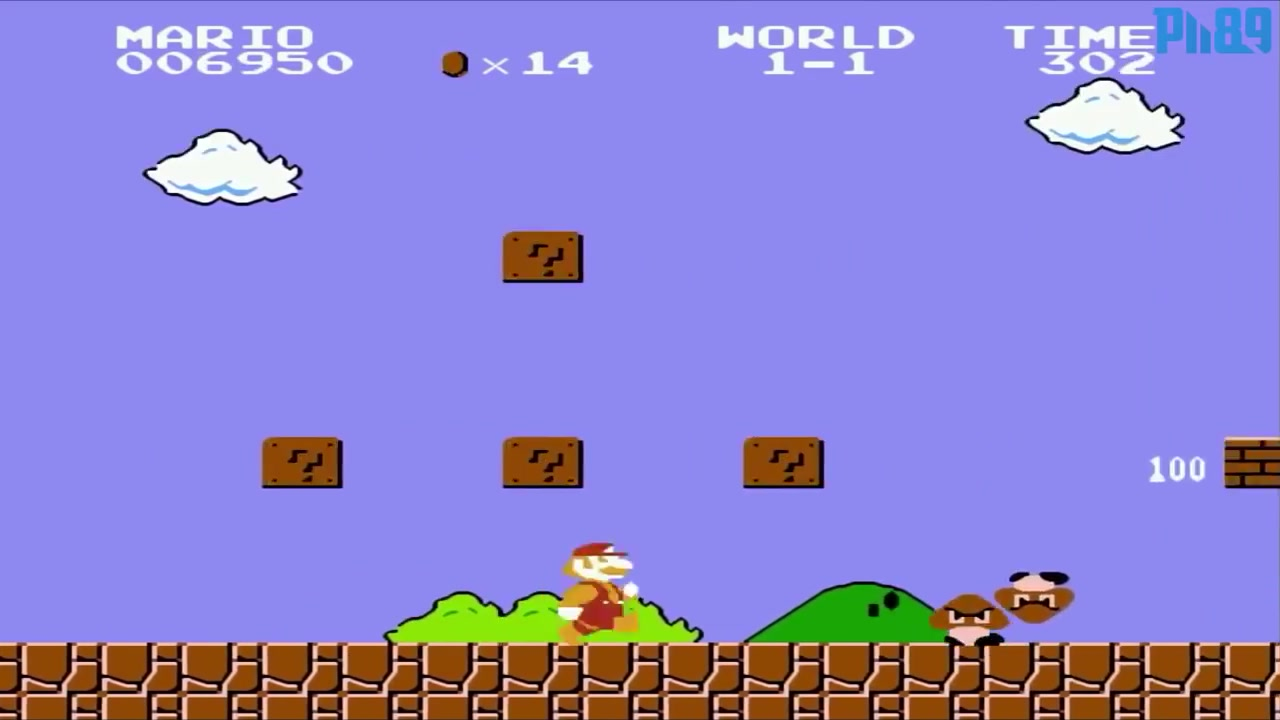mario: (548, 525, 648, 647)
